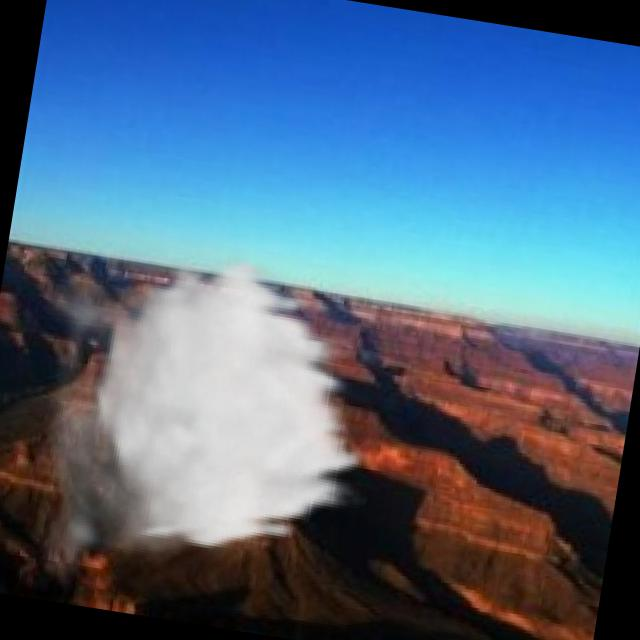Smoke: (0, 226, 401, 637)
